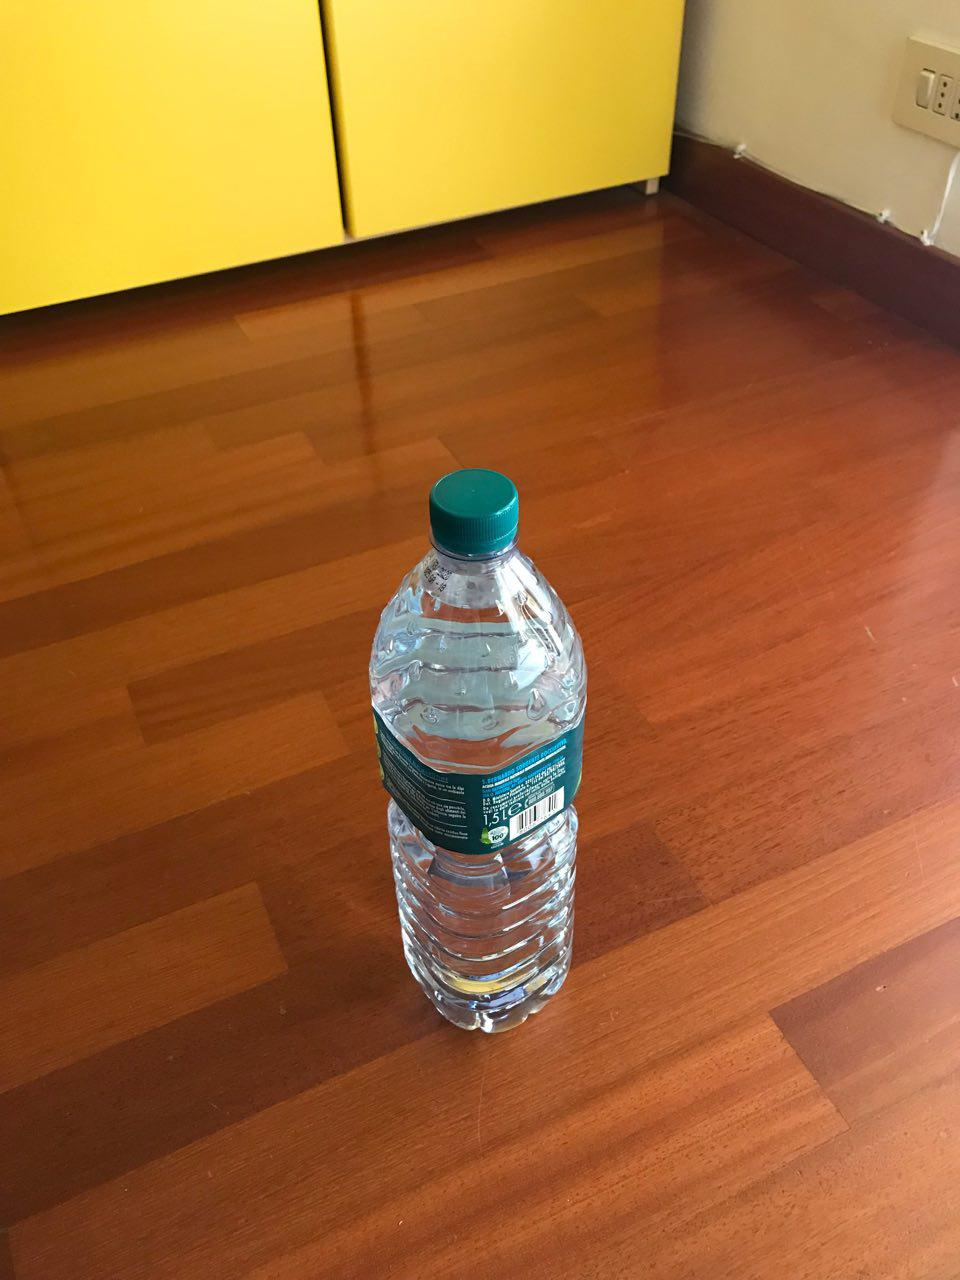san_bernardo: (365, 466, 589, 1036)
